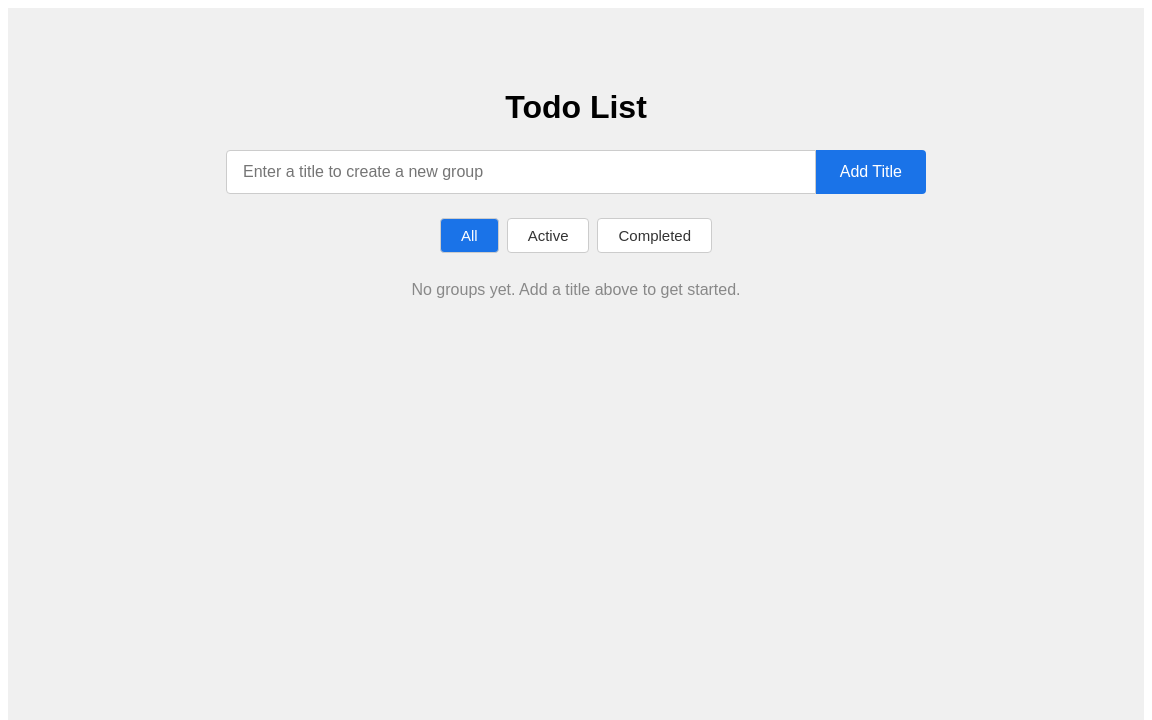
Test case: Group operations › adds a new group on Enter key
Expected: the heading "Todo List" is shown, [505, 89, 647, 125]
In the field with test id "group-input": (521, 172) [226, 150, 816, 194], type "Enter Group"
Then press Enter
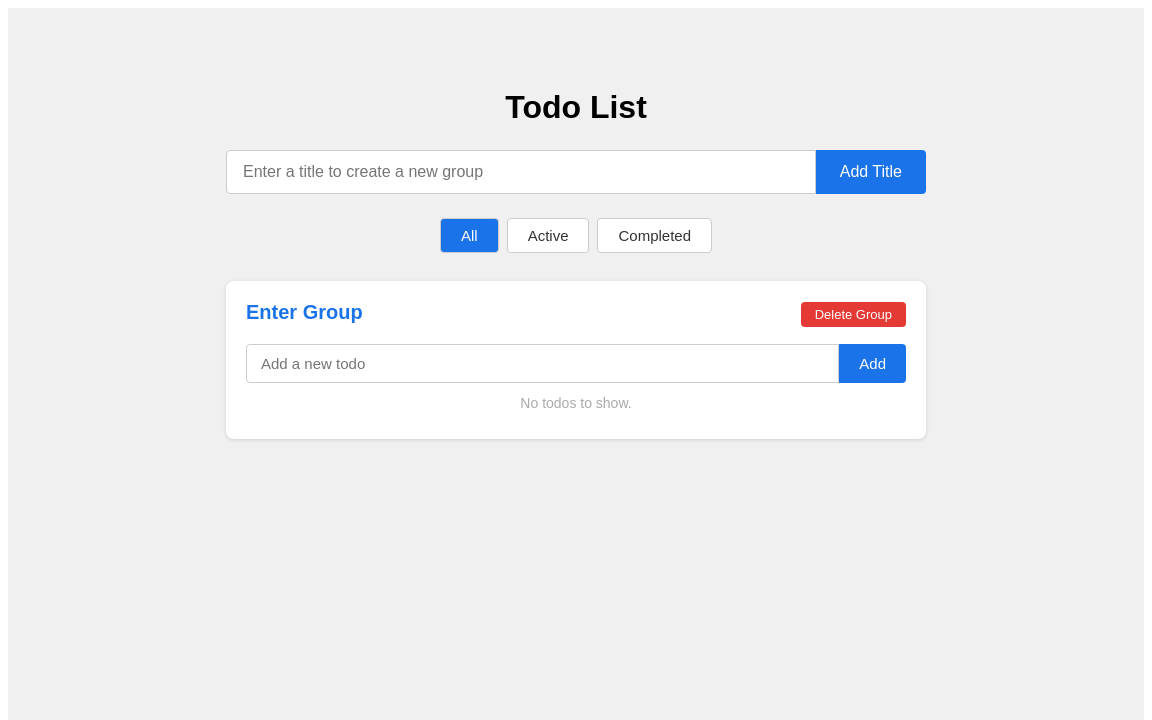
Now the heading "Enter Group" is shown, box [246, 301, 363, 324]
